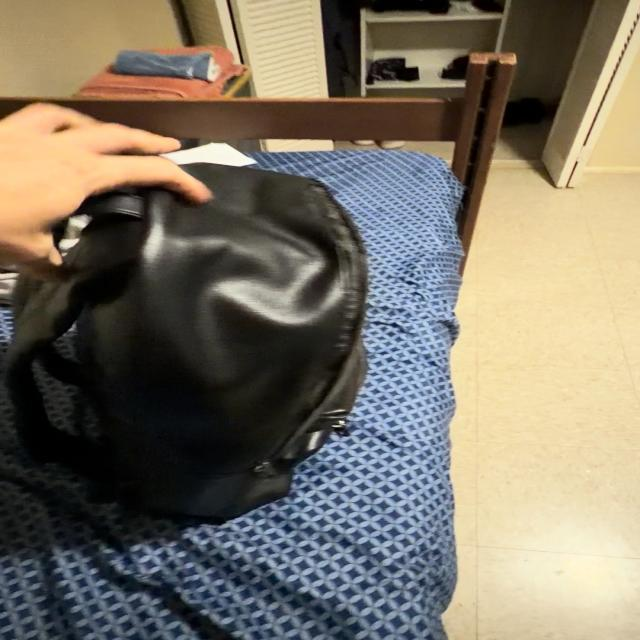backpack: (7, 164, 366, 521)
